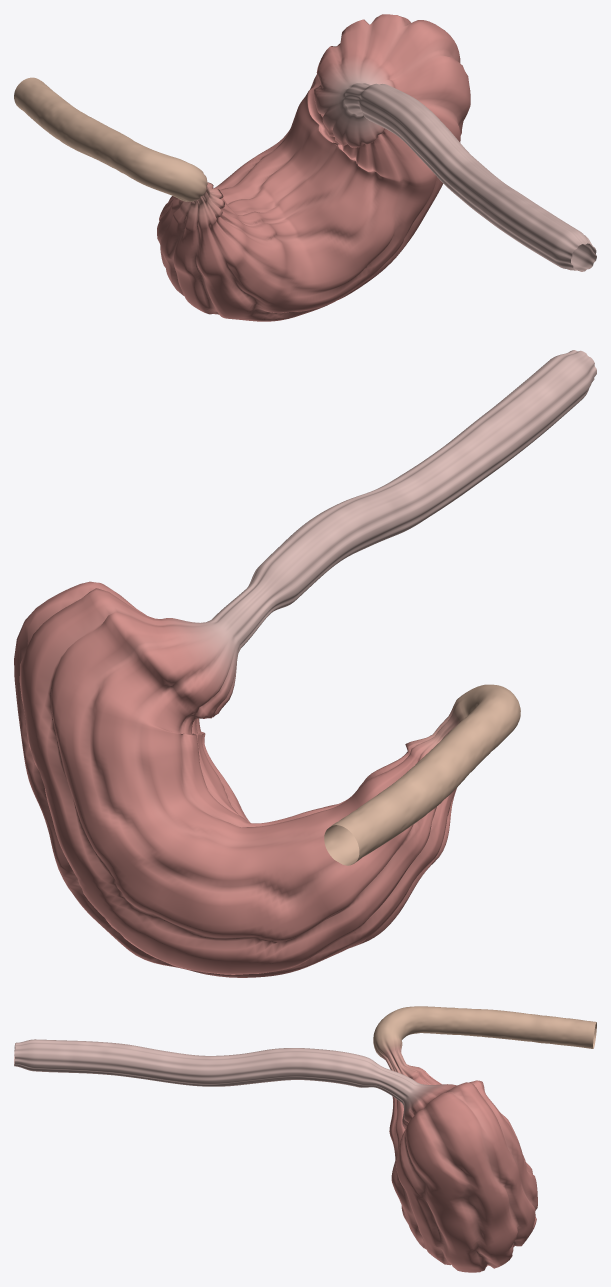
The model's file is canine_ugi.glb.
3 views of the same model, one above another, from view 1: azimuth 30°, elevation 25°; view 2: azimuth 150°, elevation 25°; view 3: azimuth 270°, elevation 25° (orthographic). The views are drawn at different scales.
Visible parts, largest first — view 1: mucosa; view 2: mucosa; view 3: mucosa.
Boxes of the visible parts, bbox=[...] form: mucosa: bbox=[14, 14, 596, 321]; mucosa: bbox=[14, 350, 596, 977]; mucosa: bbox=[14, 1006, 596, 1272].
Bounding box in the file's own units: 25.29 × 18.34 × 44.57.
